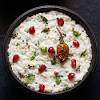curd_rice: (7, 11, 93, 85)
